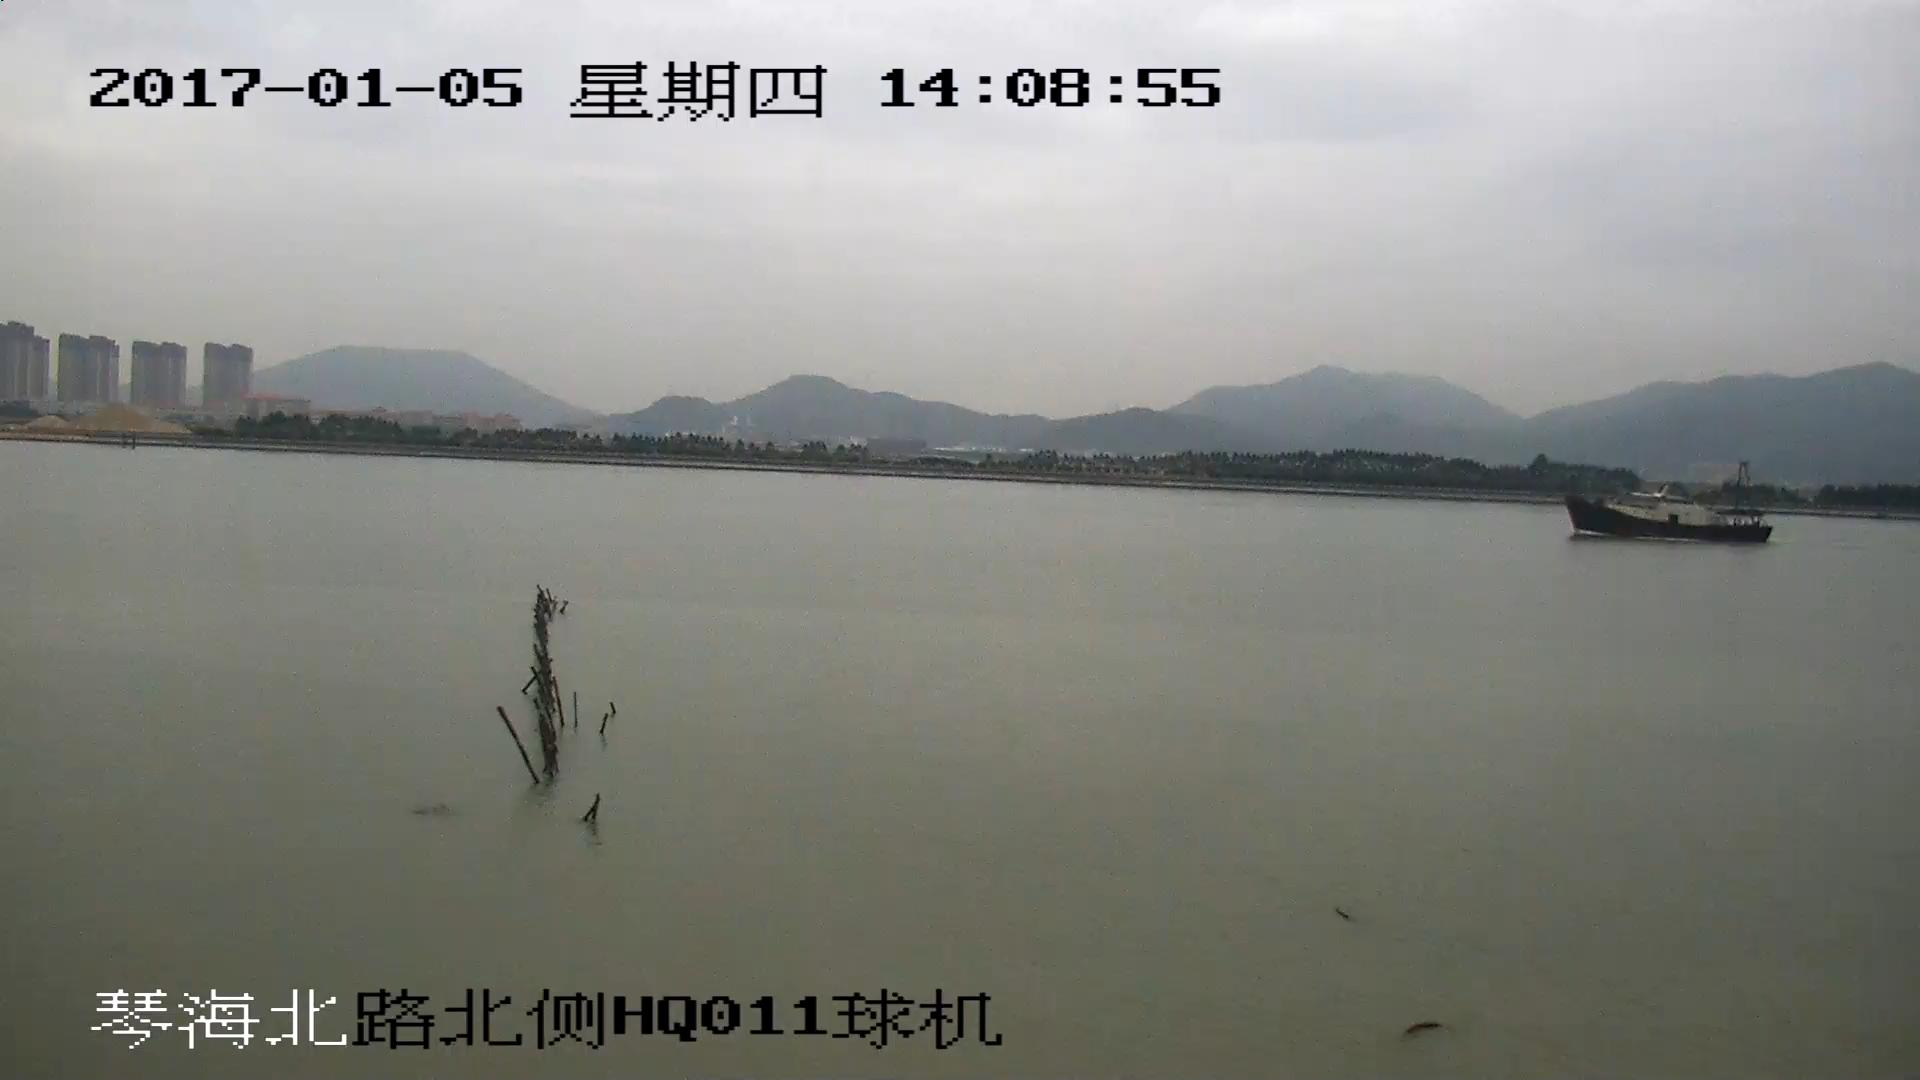fishing boat: (1569, 461, 1775, 542)
